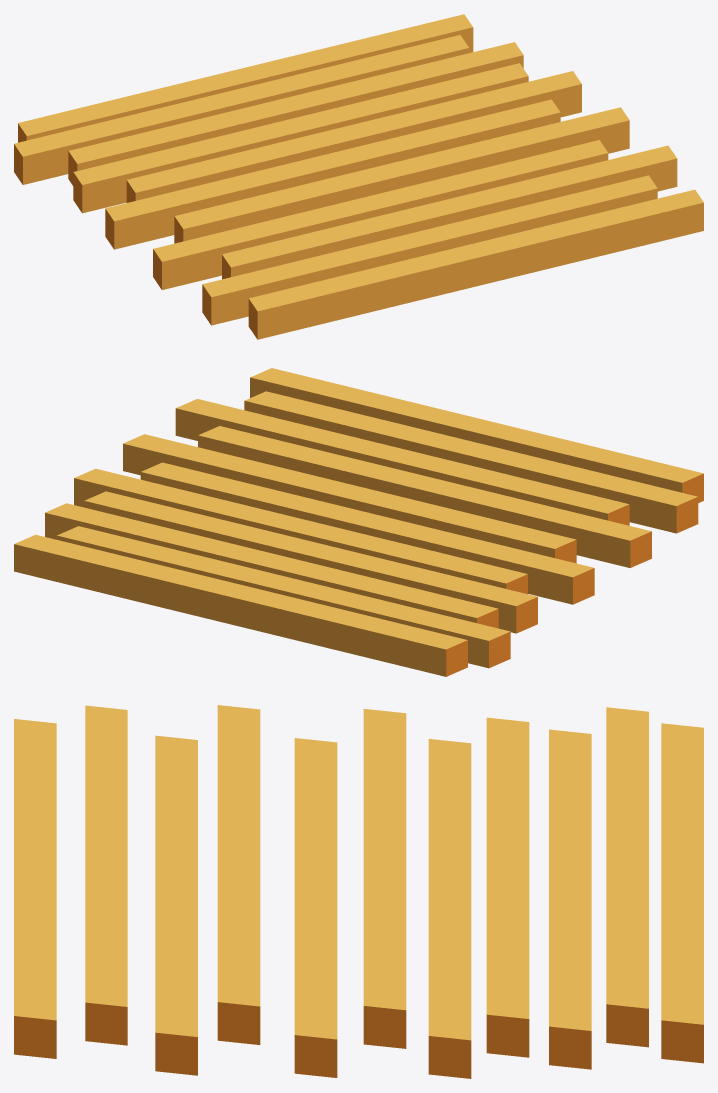
Rendered from Fries_Slice.glb.
The picture shows the model from 3 angles, top to bottom: view 1: azimuth 30°, elevation 25°; view 2: azimuth 150°, elevation 25°; view 3: azimuth 270°, elevation 25°; orthographic projection. The views are drawn at different scales.
Parts seen in each view (by area): view 1: Fries_Slice; view 2: Fries_Slice; view 3: Fries_Slice.
Part boxes in pixels (bbox=[...]): Fries_Slice: bbox=[14, 14, 703, 339]; Fries_Slice: bbox=[14, 368, 703, 676]; Fries_Slice: bbox=[14, 705, 703, 1078].
Bounding box in the file's own units: 18.63 × 1 × 16.2.
1 material, 1 textured.
